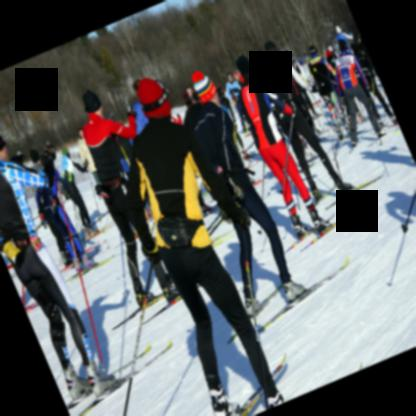backpack: (158, 218, 205, 252)
handbag: (157, 217, 203, 246), (0, 235, 27, 267), (95, 178, 120, 201)
